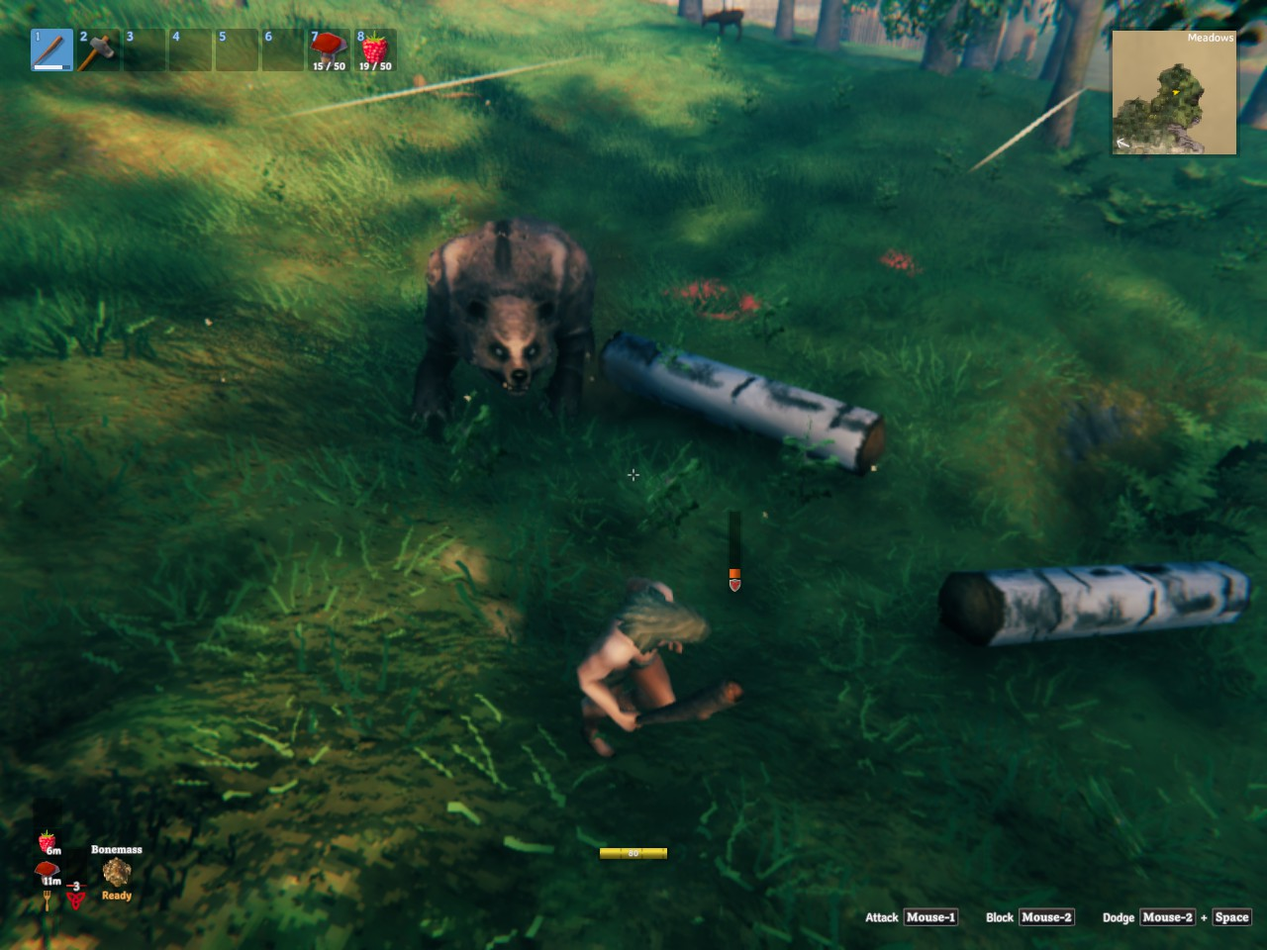Bear: (413, 218, 595, 419)
Deer: (703, 11, 743, 40)
